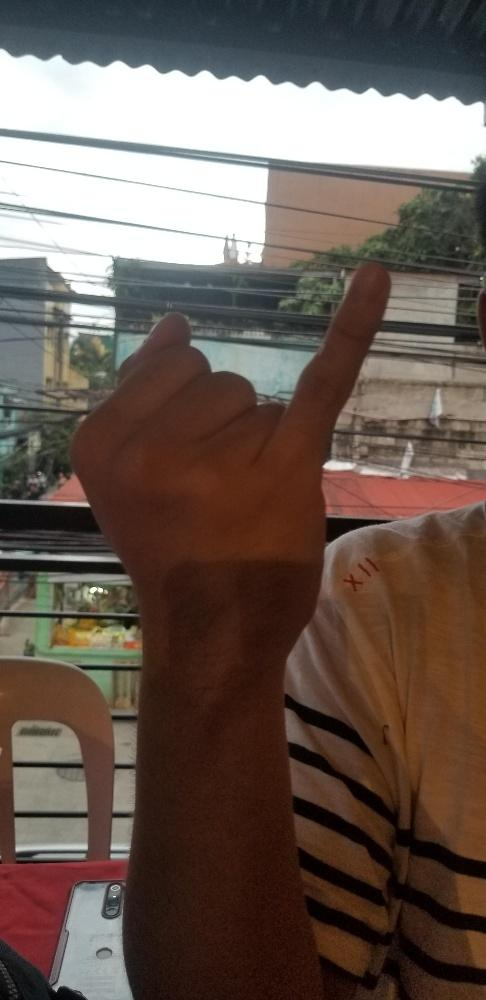j: (66, 258, 389, 658)
